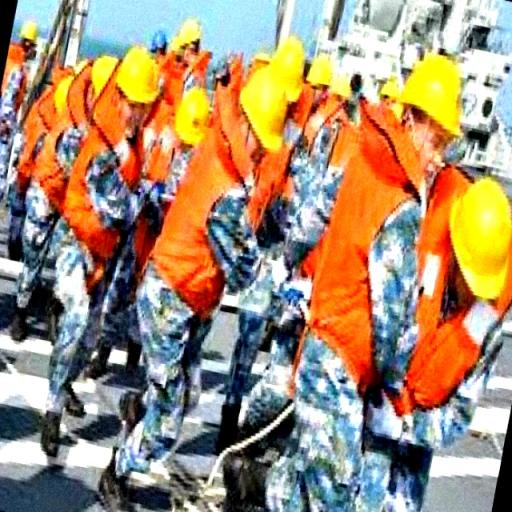helmet: (450, 170, 512, 306), (400, 46, 470, 143), (238, 69, 294, 153), (114, 43, 168, 107), (174, 82, 217, 151), (271, 32, 307, 98), (88, 47, 121, 96), (306, 54, 338, 90), (322, 70, 352, 100), (16, 18, 44, 48)
